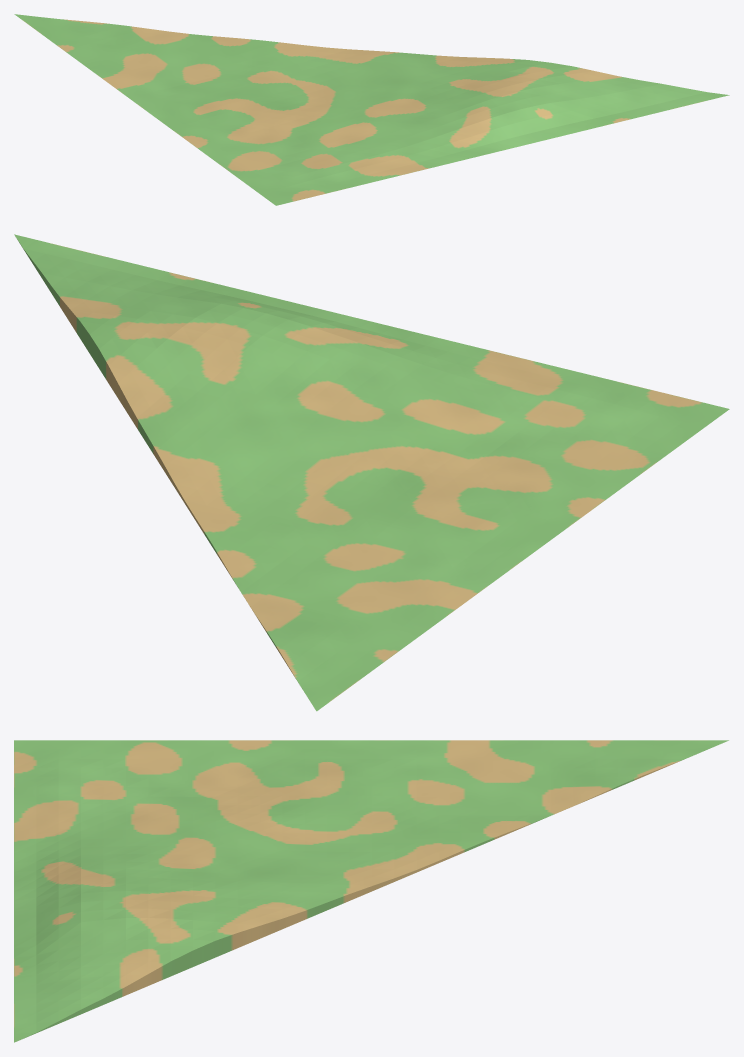
Rendered from Grass_Flat_07_NW.obj.
The picture shows the model from 3 angles, top to bottom: view 1: azimuth 30°, elevation 25°; view 2: azimuth 150°, elevation 25°; view 3: azimuth 270°, elevation 25°; orthographic projection. The views are drawn at different scales.
Bounding box in the file's own units: 10 × 0.3209 × 10.
Materials: 1 (1 with a texture image).
